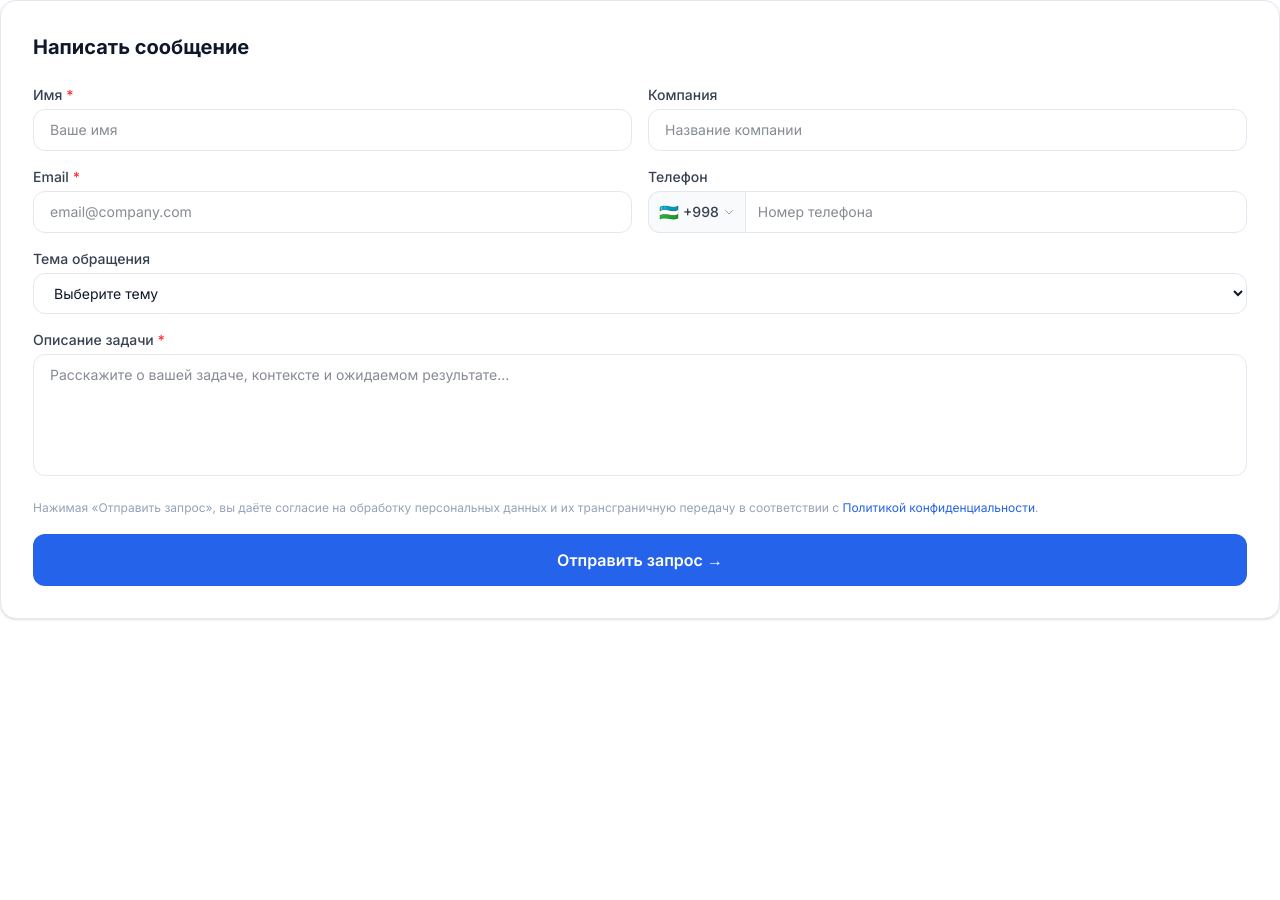
Scenario: ContactForm — Russian (default) › validates required fields
Click the submit button.
click(640, 560)  # box [33, 534, 1247, 586]
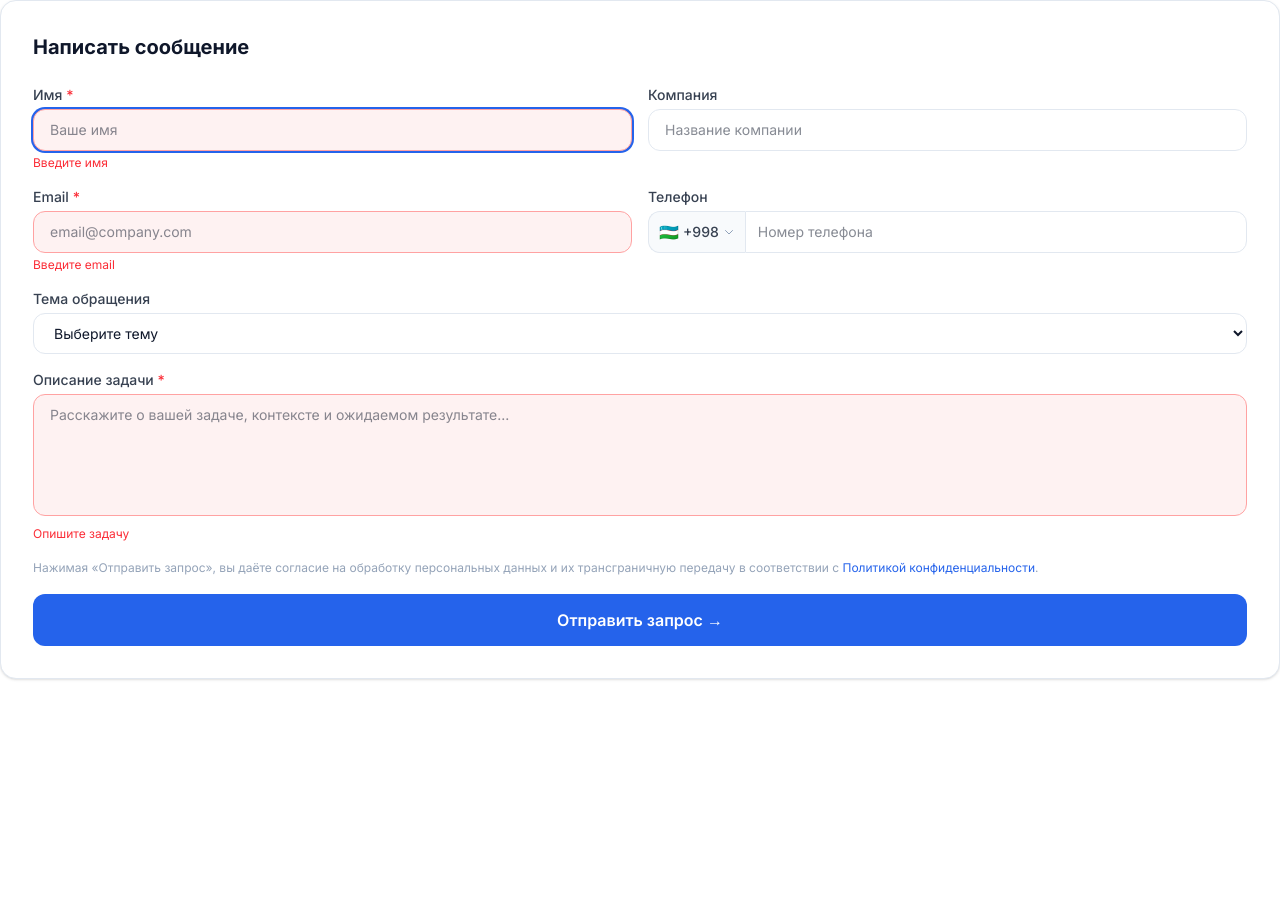
Now the text "Введите имя" is shown, box [33, 155, 108, 170]
Now the text "Введите email" is shown, box [33, 257, 115, 272]
Now the text "Опишите задачу" is shown, box [33, 526, 129, 541]
